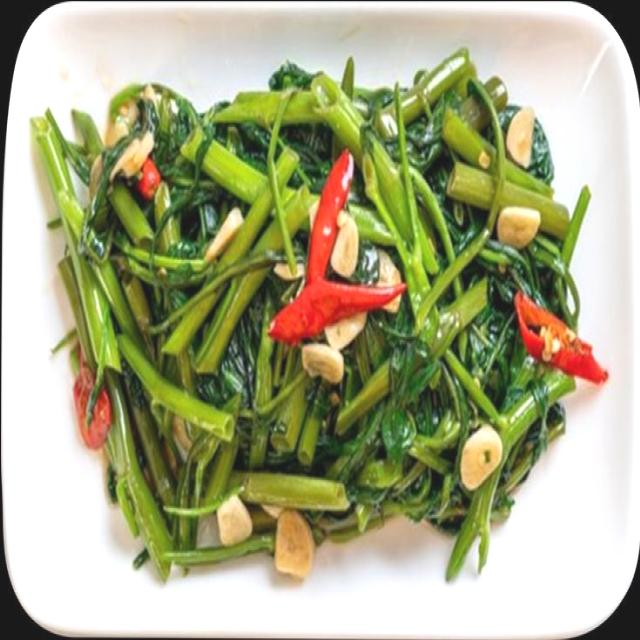tumis kangkung: (30, 50, 603, 581)
